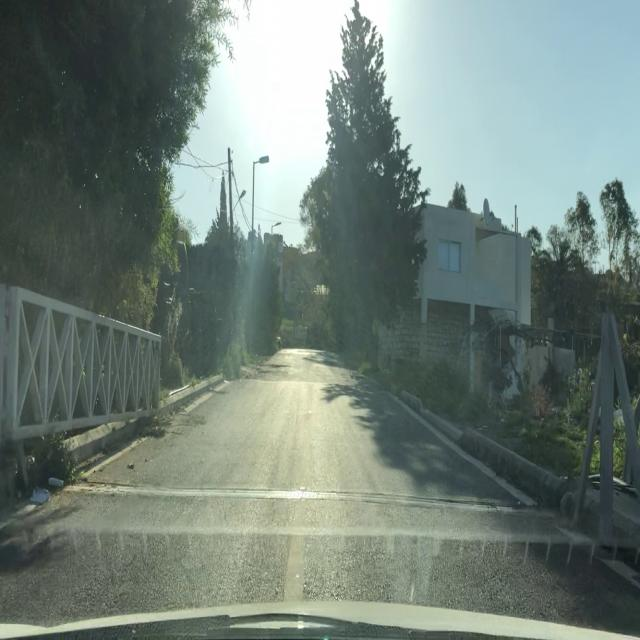Pothole: (266, 363, 291, 369), (350, 374, 364, 380), (259, 370, 272, 374)
